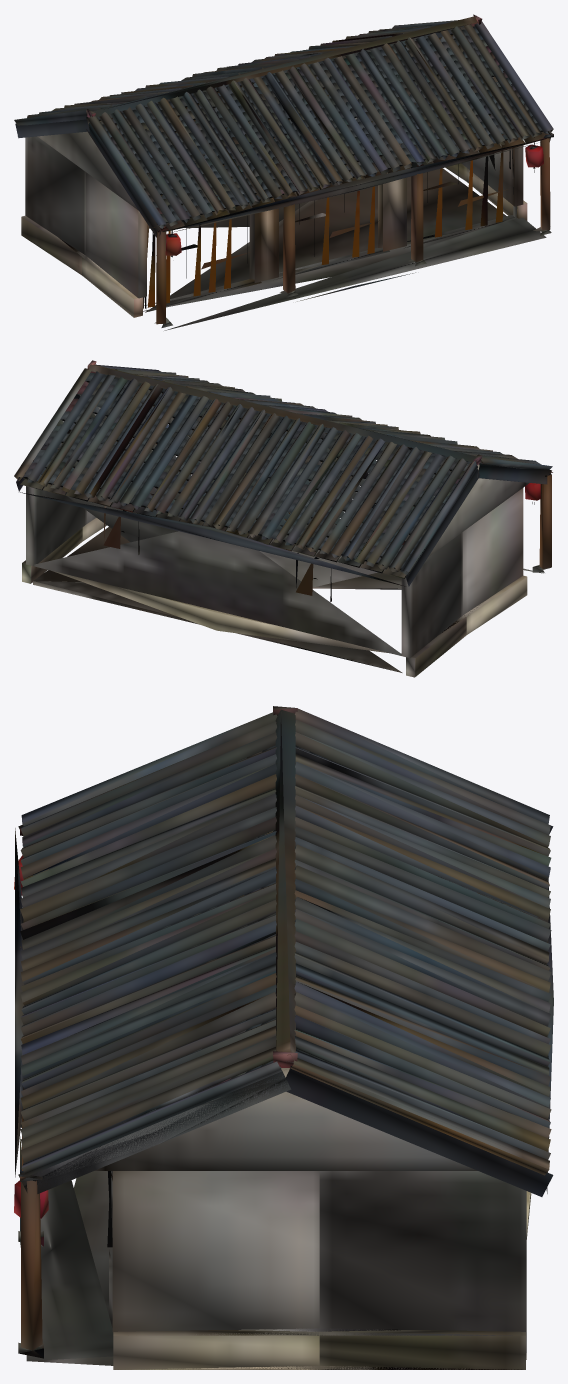
The model's file is lib_lib_house_a1.far.glb.
3 renders of one model, top to bottom at view 1: azimuth 30°, elevation 25°; view 2: azimuth 150°, elevation 25°; view 3: azimuth 270°, elevation 25°, orthographic. The views are drawn at different scales.
Visible parts, largest first — view 1: lo; view 2: lo; view 3: lo.
Boxes of the visible parts, x1=… form: lo: x1=14, y1=14, x2=553, y2=330; lo: x1=14, y1=360, x2=552, y2=677; lo: x1=14, y1=706, x2=553, y2=1369.
Size of the model in its own units: 11.12 by 4.6 by 7.17.
1 material, 1 textured.
